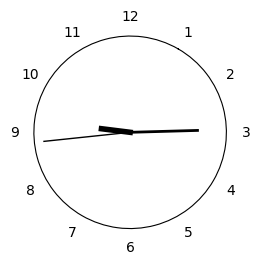12: (122, 10, 139, 22)
circle: (34, 36, 227, 228)
hours: (98, 126, 133, 135)
minutes: (134, 128, 199, 134)
seconds: (43, 133, 124, 142)
